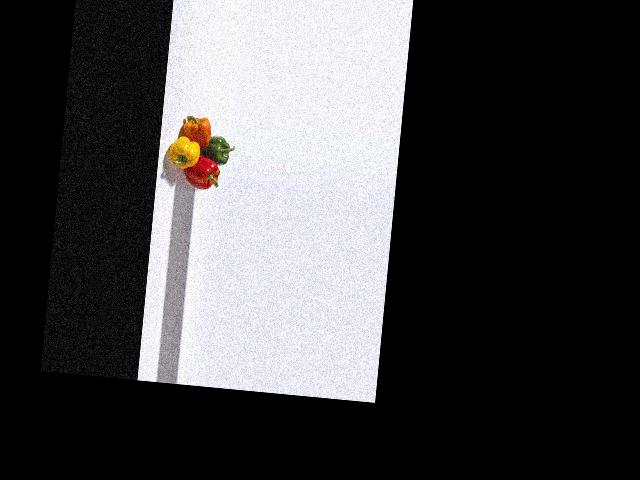bell_pepper: (182, 154, 224, 192)
